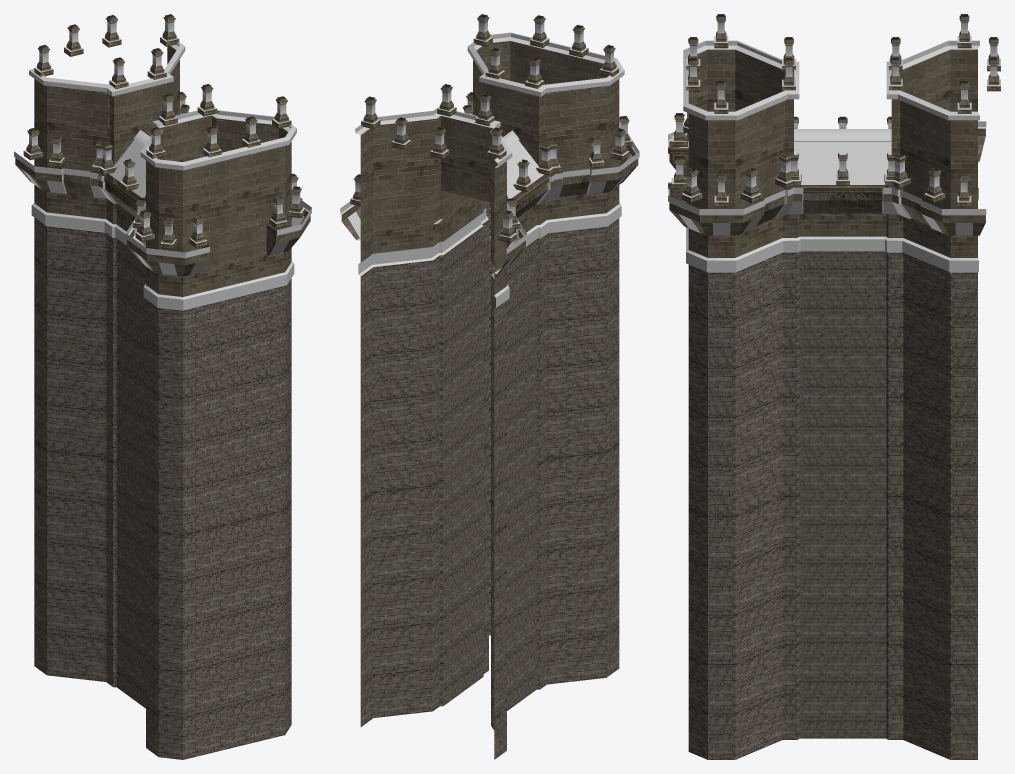
Rendered from SM_BridgeBuilding_Area01.FBX.
3 views of the same model, side by side, from view 1: azimuth 30°, elevation 25°; view 2: azimuth 150°, elevation 25°; view 3: azimuth 270°, elevation 25° (orthographic). The views are drawn at different scales.
Visible parts, largest first — view 1: SM_BridgeBuilding_Area01; view 2: SM_BridgeBuilding_Area01; view 3: SM_BridgeBuilding_Area01.
Part boxes in pixels (bbox=[...]): SM_BridgeBuilding_Area01: bbox=[14, 14, 311, 759]; SM_BridgeBuilding_Area01: bbox=[340, 14, 639, 759]; SM_BridgeBuilding_Area01: bbox=[668, 14, 1000, 759].
Size of what is drawn, in the model's own units: 1630 by 2614 by 5859.
